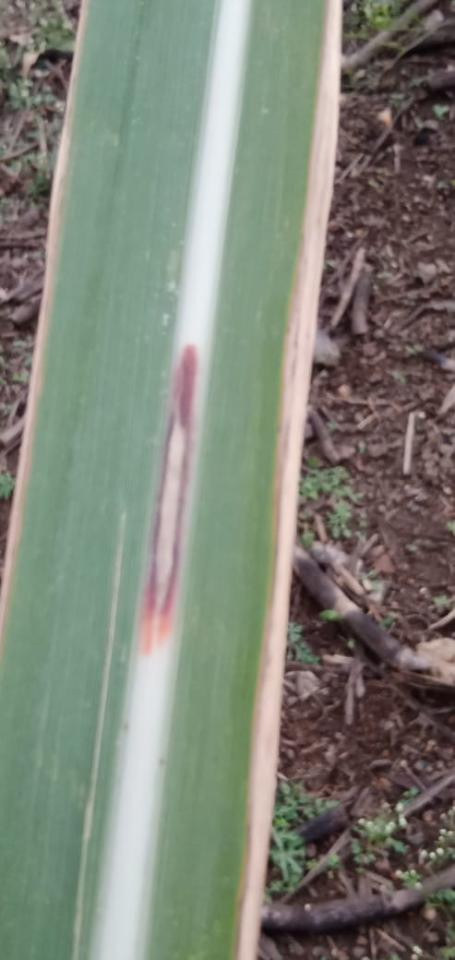RedRot: (141, 343, 200, 657)
Yellow: (232, 0, 334, 959)
